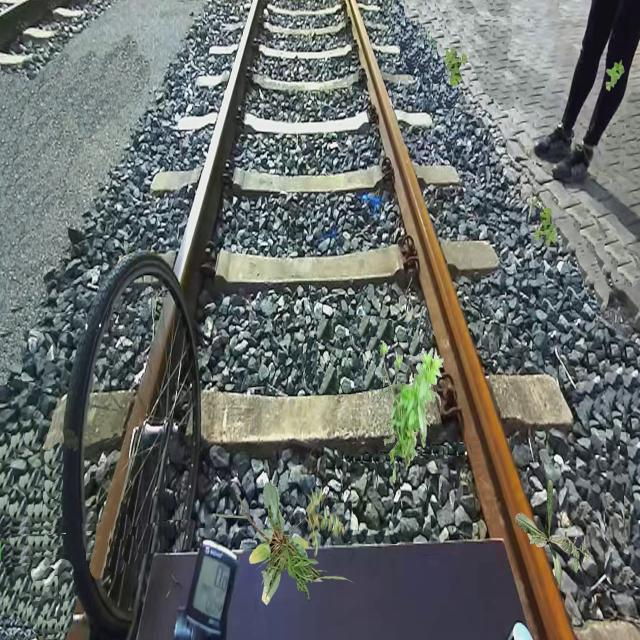Plant: (214, 483, 358, 602), (379, 340, 444, 483), (249, 481, 312, 606), (514, 480, 578, 592), (304, 486, 346, 558), (562, 532, 590, 573), (444, 46, 468, 87), (534, 206, 558, 247), (605, 59, 624, 92)
